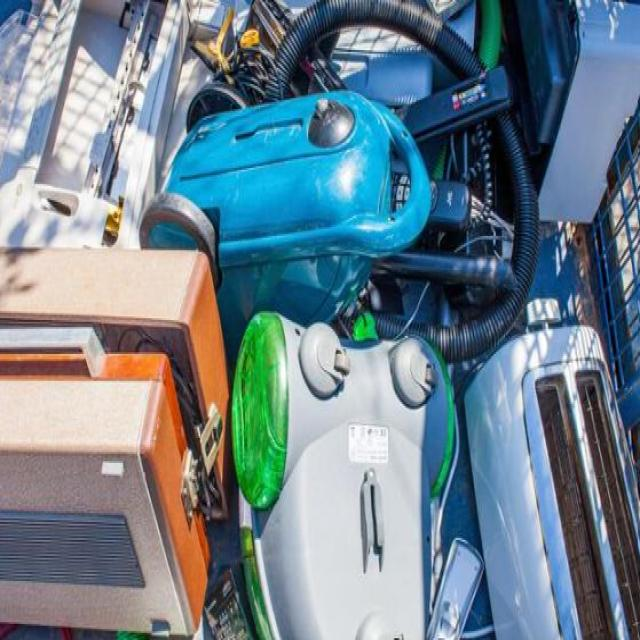electronic: (131, 59, 483, 356), (0, 197, 232, 640), (225, 288, 468, 640)
